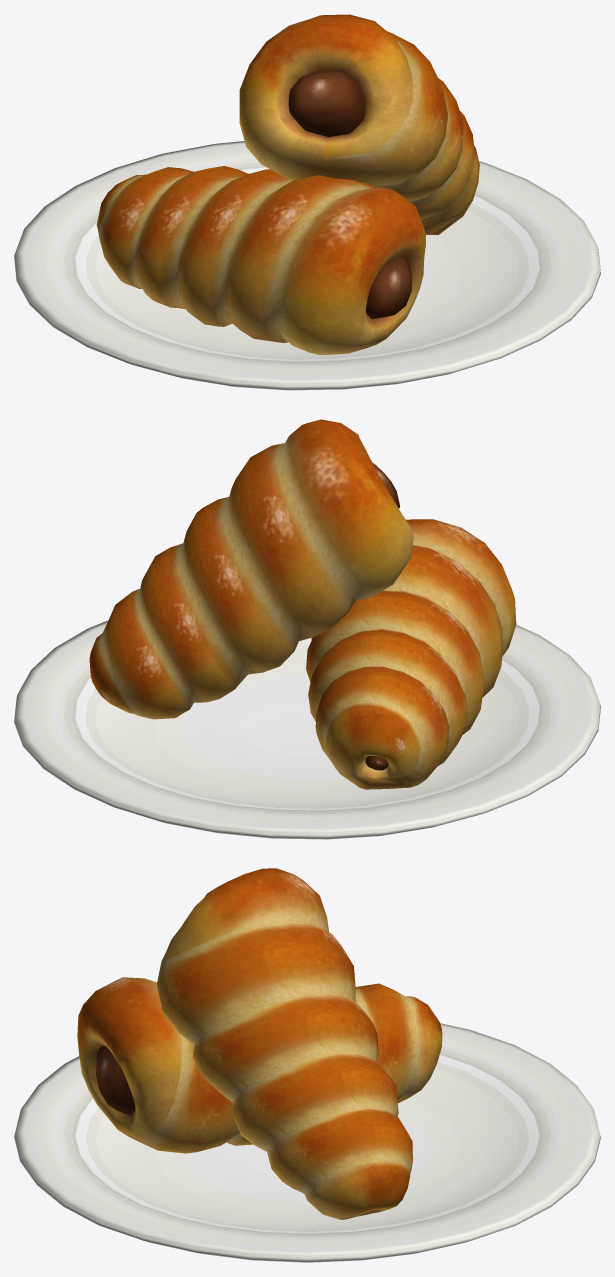
Rendered from croissant.glb.
3 renders of one model, top to bottom at view 1: azimuth 30°, elevation 25°; view 2: azimuth 150°, elevation 25°; view 3: azimuth 270°, elevation 25°, orthographic.
Parts seen in each view (by area): view 1: M_Re_026_00, M_dish; view 2: M_Re_026_00, M_dish; view 3: M_Re_026_00, M_dish.
Part boxes in pixels (left/top/right/bottom): M_Re_026_00: left=96, top=14, right=479, bottom=354; M_dish: left=14, top=141, right=600, bottom=390; M_Re_026_00: left=89, top=419, right=516, bottom=789; M_dish: left=14, top=620, right=600, bottom=839; M_Re_026_00: left=77, top=868, right=442, bottom=1219; M_dish: left=14, top=1023, right=600, bottom=1262.
Size of what is drawn, in the model's own units: 24.26 by 13.69 by 24.25.
2 materials, 2 textured.
